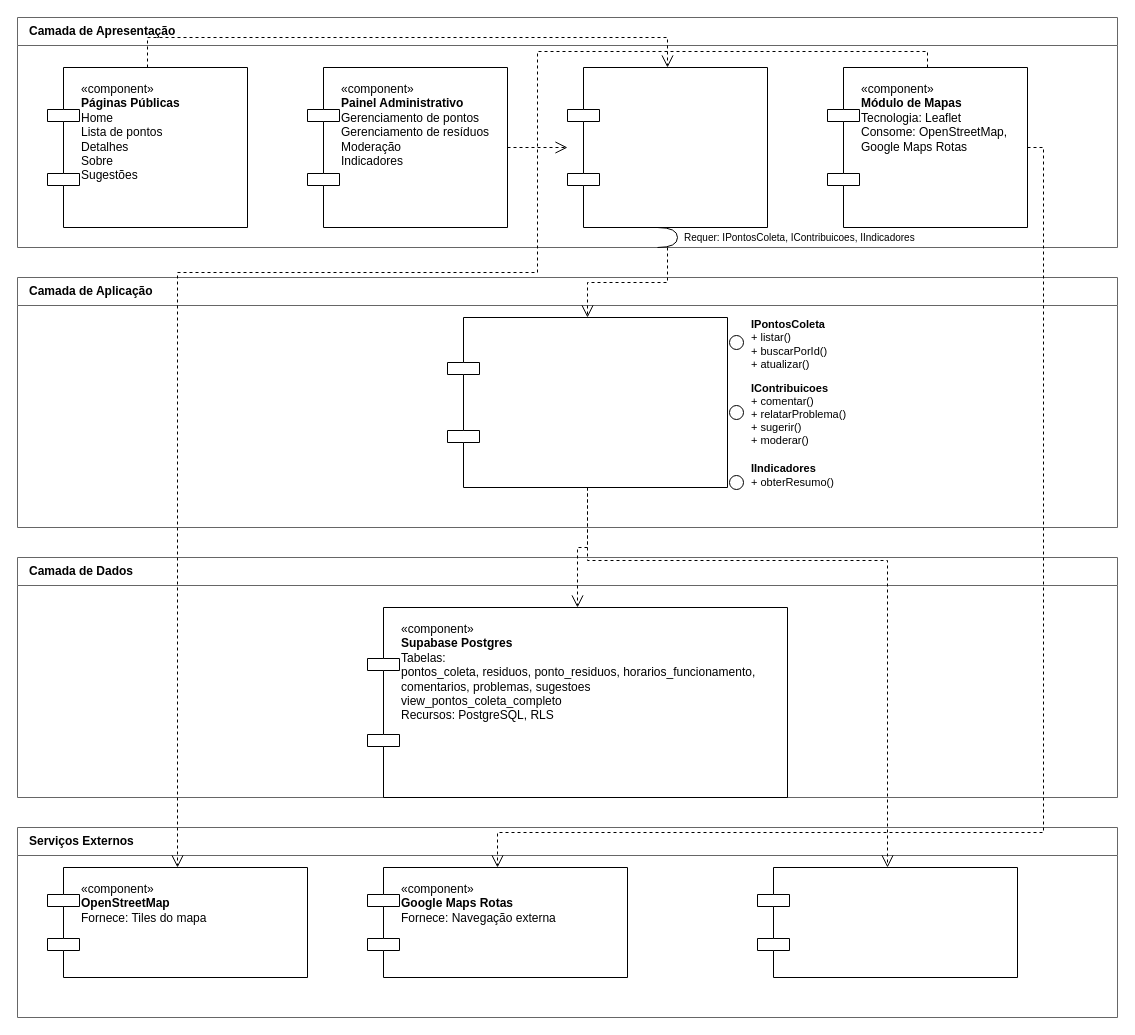
This 1135x1035 diagram has some shape labels left out. The shapes that lost their labels are listed below. From the top down, each one's centre as x and y in pixels, then its label:
At [667,147]: "«component» Cliente HTTP Responsável por: Comunicação com a API Backend".
At [587,402]: "«component» DF Coleta API".
At [887,922]: "«component» API Externa de Pontos Fornece: Dados oficiais dos pontos de coleta".
